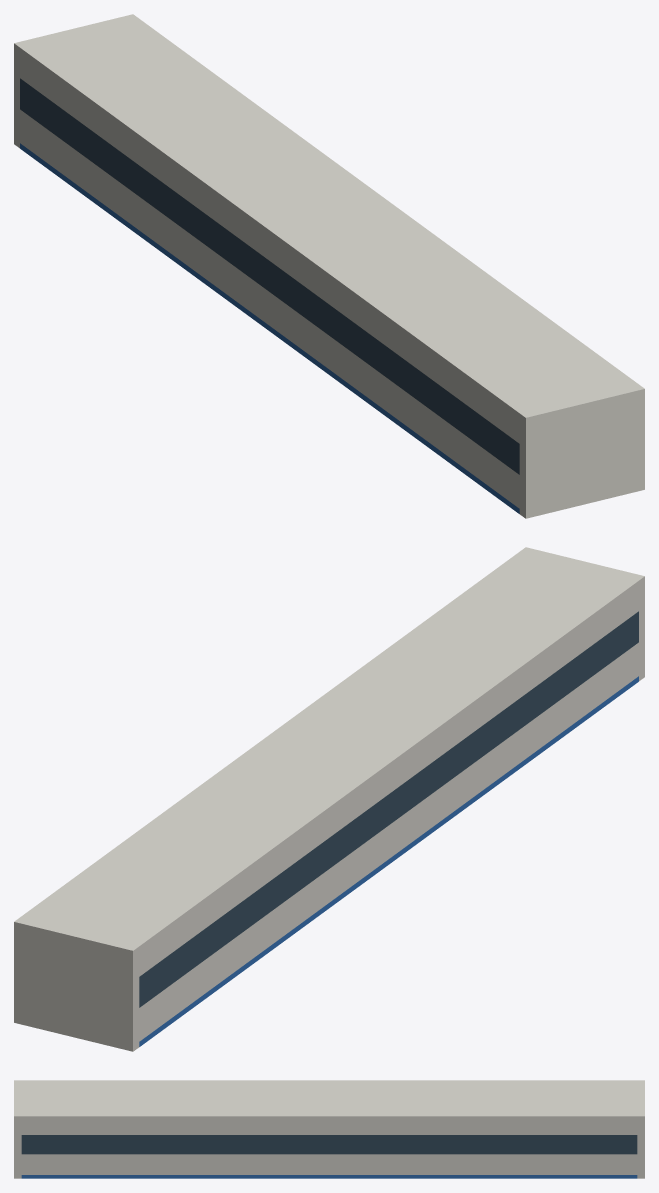
The model's file is 393_far.fbx.
3 views of the same model, one above another, from view 1: azimuth 30°, elevation 25°; view 2: azimuth 150°, elevation 25°; view 3: azimuth 270°, elevation 25° (orthographic). The views are drawn at different scales.
Parts seen in each view (by area): view 1: 393_far; view 2: 393_far; view 3: 393_far.
Part boxes in pixels (x1,y1,x2,y2): 393_far: (14, 14, 644, 518); 393_far: (14, 547, 644, 1051); 393_far: (14, 1080, 644, 1178).
Bounding box in the file's own units: 3.37 × 2.72 × 25.
